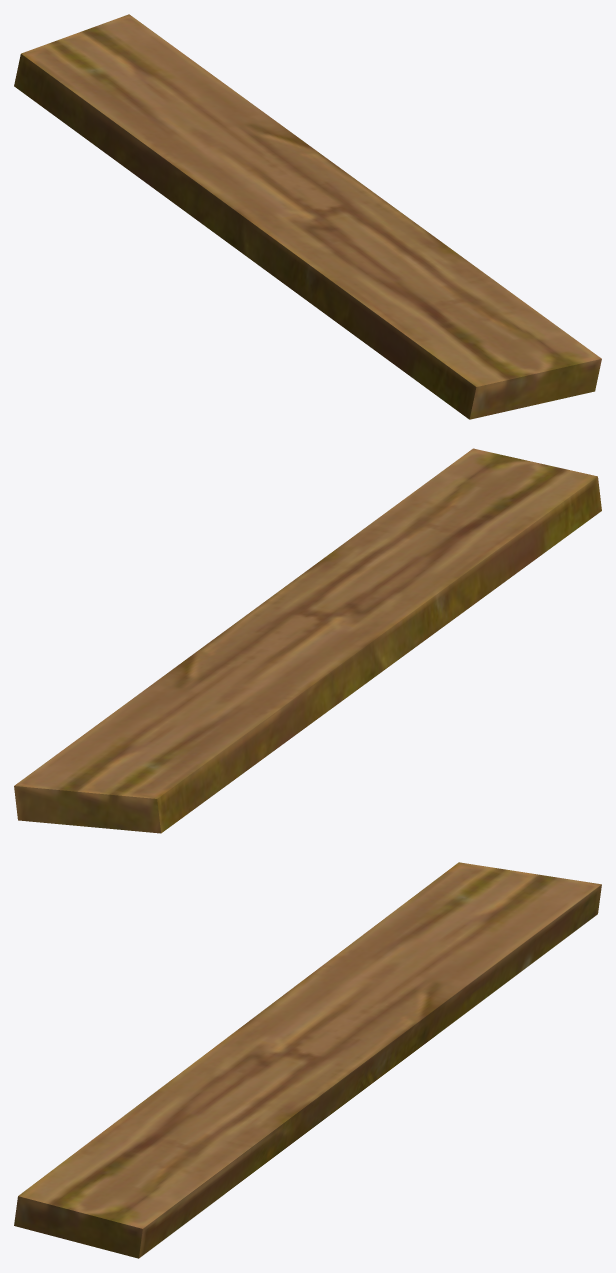
File: CeShi_BFB07_Pinmutou04.FBX
3 renders of one model, top to bottom at view 1: azimuth 30°, elevation 25°; view 2: azimuth 150°, elevation 25°; view 3: azimuth 330°, elevation 25°, orthographic.
Parts seen in each view (by area): view 1: CeShi_BFB07_Pinmutou04; view 2: CeShi_BFB07_Pinmutou04; view 3: CeShi_BFB07_Pinmutou04.
Part boxes in pixels (<box>): CeShi_BFB07_Pinmutou04: <box>14,14,601,419</box>; CeShi_BFB07_Pinmutou04: <box>14,448,601,833</box>; CeShi_BFB07_Pinmutou04: <box>14,862,601,1258</box>.
Bounding box in the file's own units: 36.35 × 10.27 × 216.
